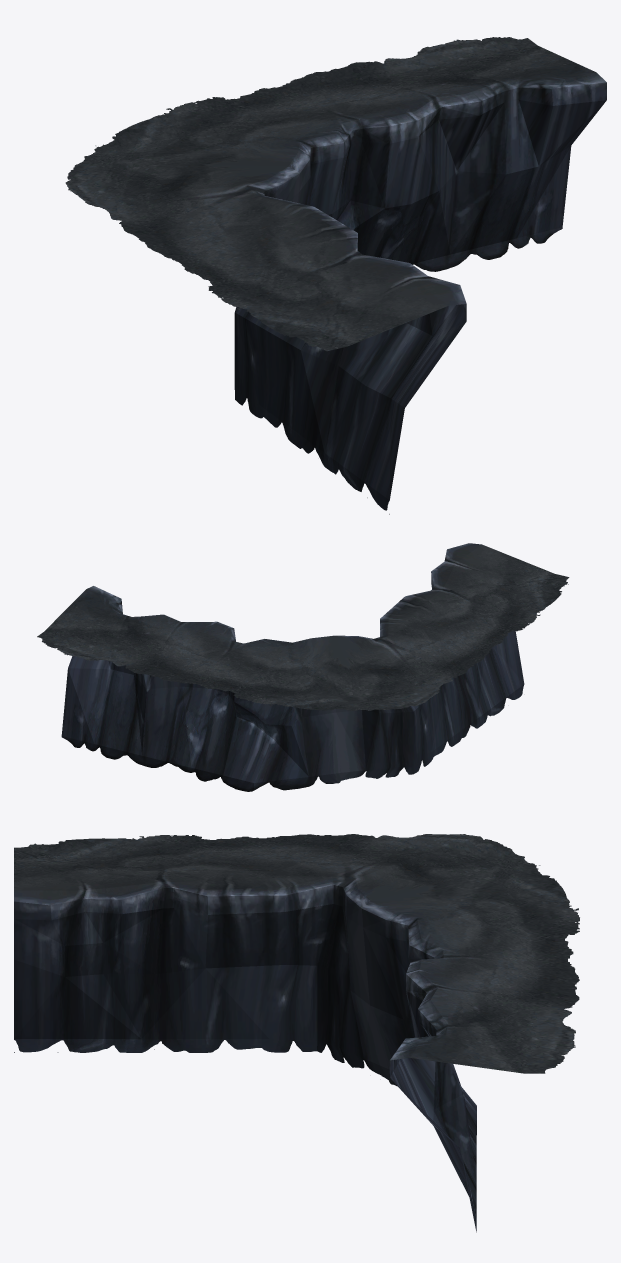
Rendered from mine_trim_concave_01.fbx.
The picture shows the model from 3 angles, top to bottom: view 1: azimuth 30°, elevation 25°; view 2: azimuth 150°, elevation 25°; view 3: azimuth 270°, elevation 25°; orthographic projection. The views are drawn at different scales.
Visible parts, largest first — view 1: obj0.015; view 2: obj0.015; view 3: obj0.015.
Part boxes in pixels (bbox=[...]): obj0.015: bbox=[65, 37, 606, 514]; obj0.015: bbox=[37, 543, 569, 791]; obj0.015: bbox=[14, 834, 579, 1232].
Bounding box in the file's own units: 4.64 × 1.65 × 4.64.
